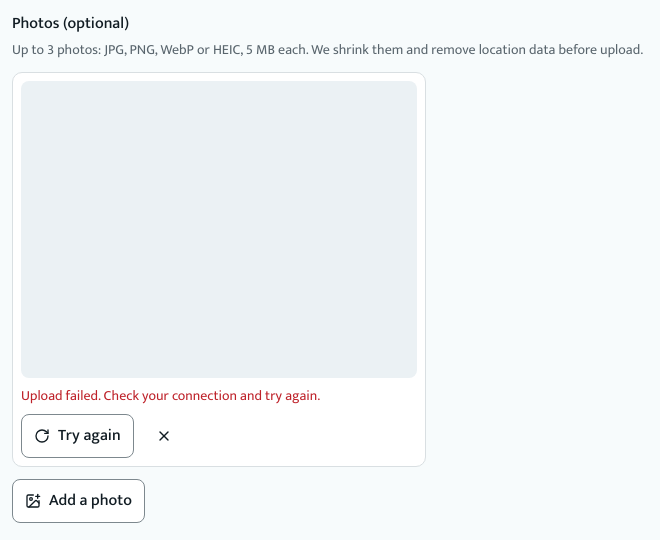
Scenario: photos › a failed upload offers Retry, which signs again and finishes
Earlier steps of the test are not shown.
Expected: the text "Upload failed. Check your connection and try again." is shown, [21,384,320,407]
Step 1. Click the button "Try again" → (77, 436), box [21,414,134,458]
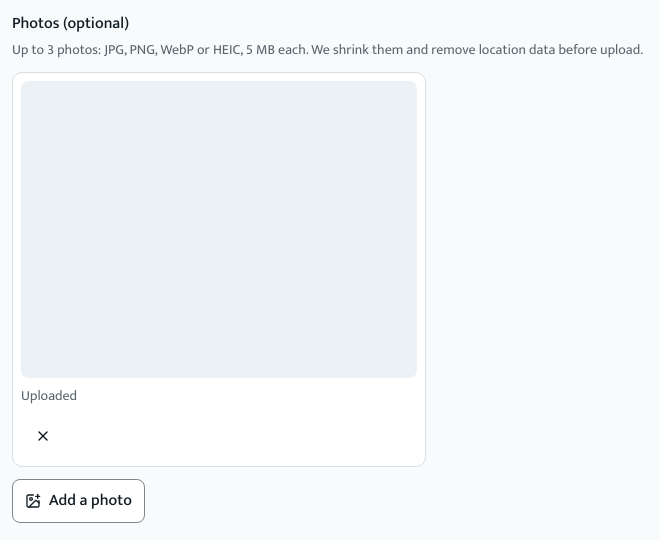
Now the text "Uploaded" is shown, box [21,384,77,407]
